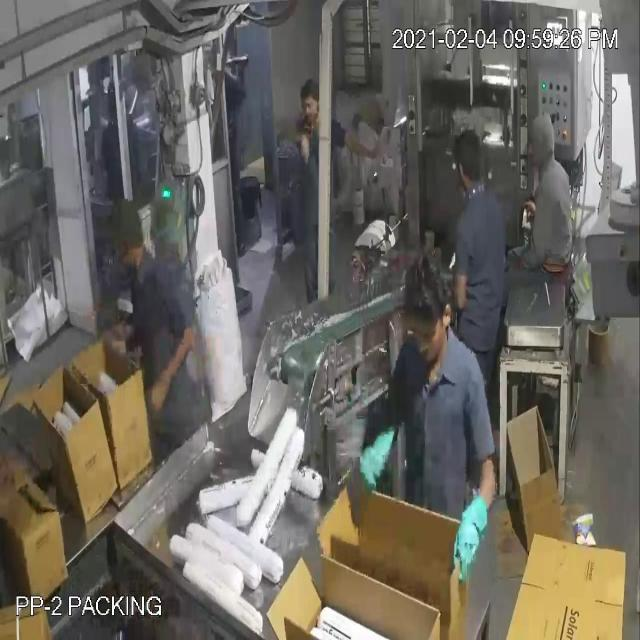No_Gloves: (50, 58, 466, 524)
